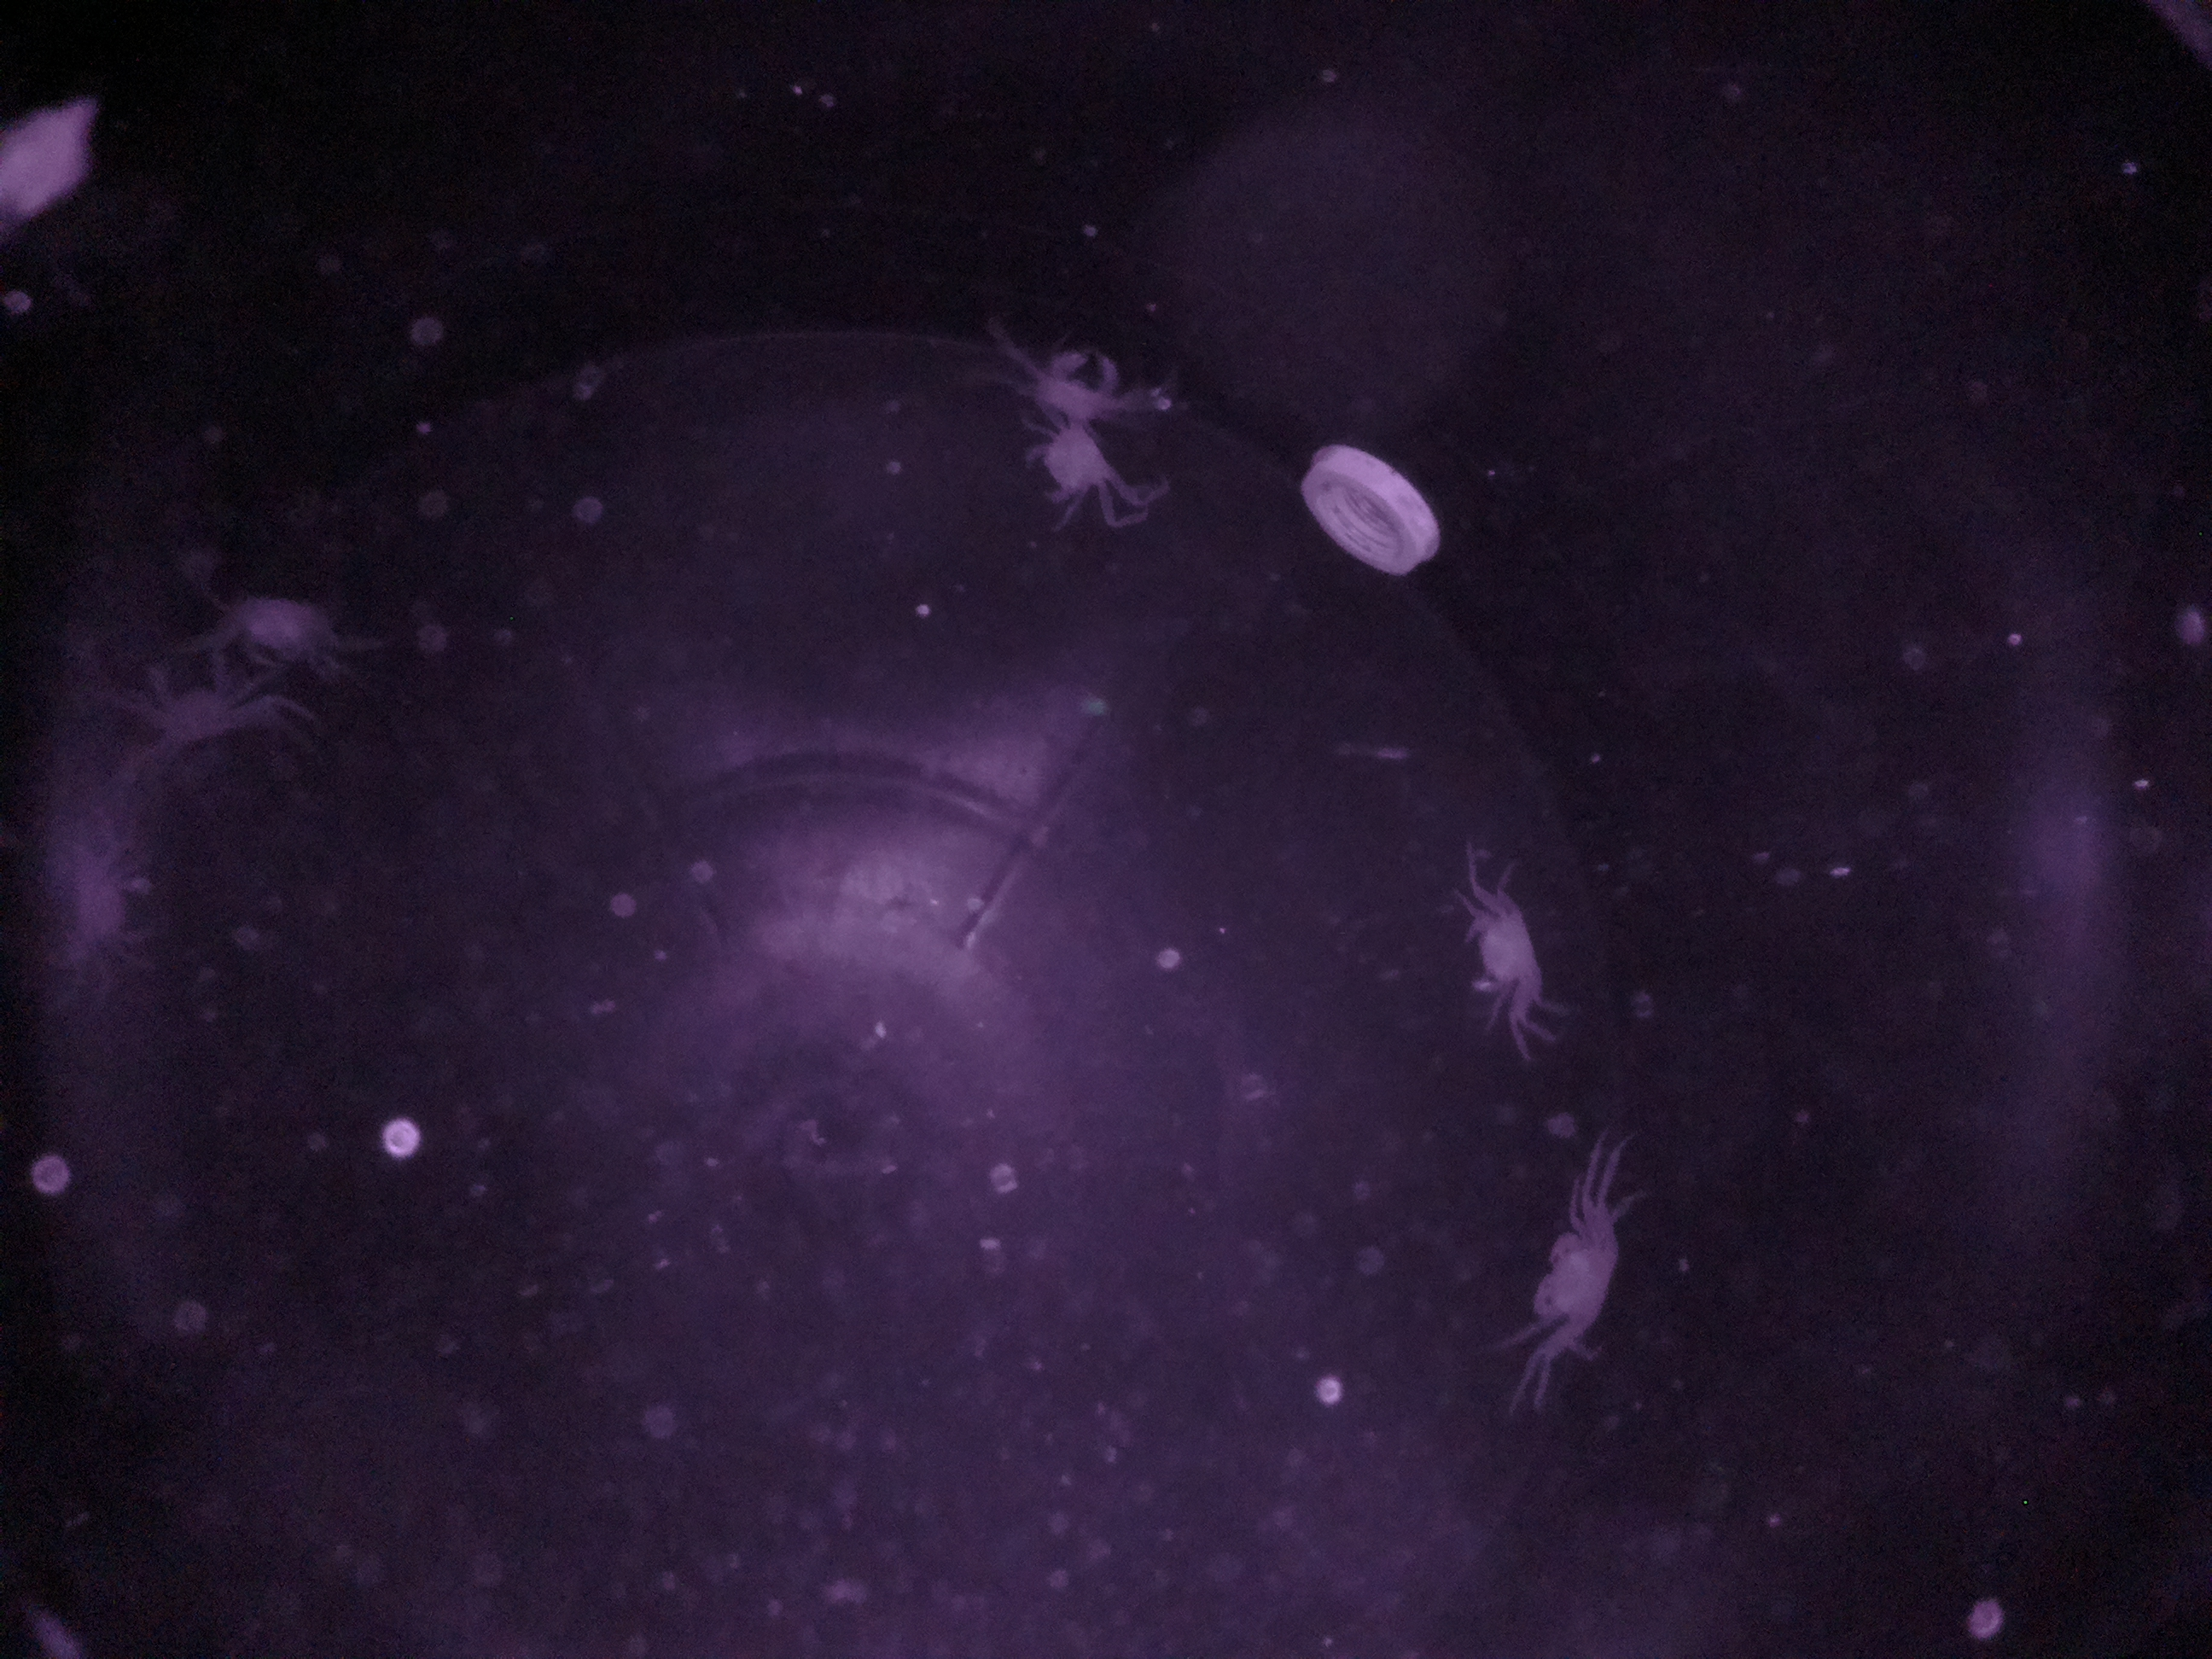Crab: (1493, 1195, 1625, 1366), (1444, 892, 1569, 1016), (1012, 408, 1122, 525)
